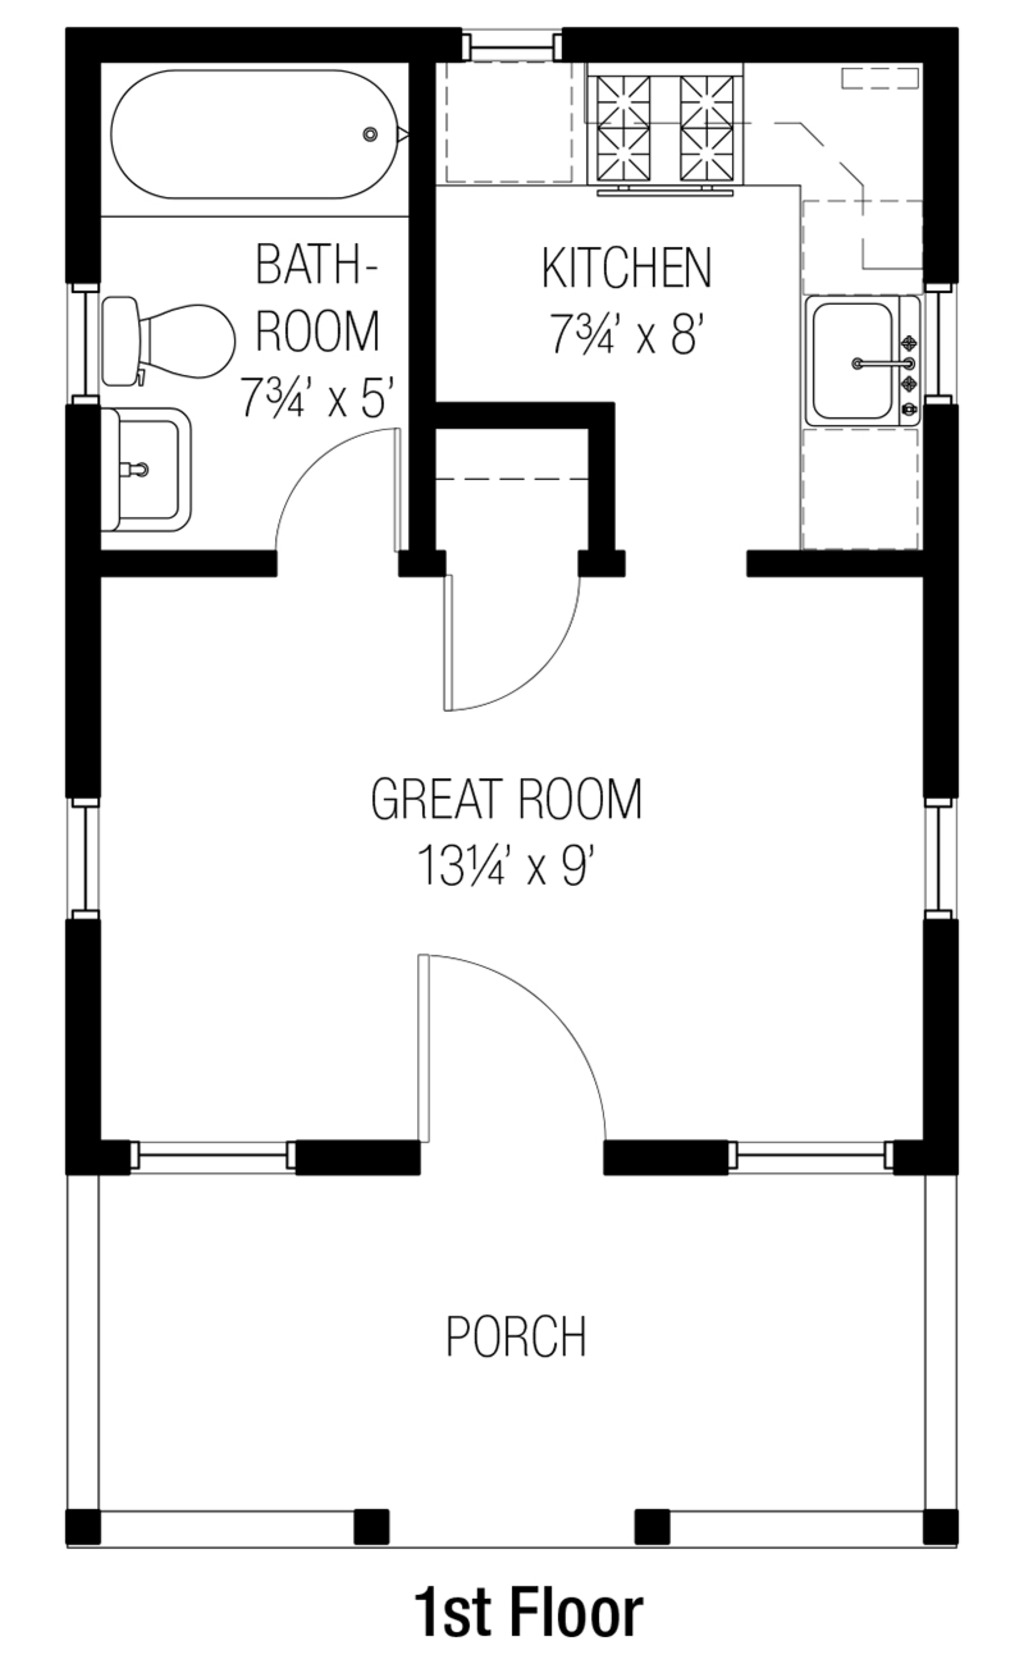door: (387, 929, 612, 1165), (276, 416, 412, 575), (443, 560, 592, 704)
large_sink: (71, 286, 248, 398)
small_sink: (813, 273, 946, 429), (84, 406, 207, 550)
tub: (105, 65, 415, 219)
window: (124, 1142, 297, 1175), (731, 1152, 892, 1183), (67, 798, 107, 919), (466, 24, 565, 65), (928, 792, 961, 916)
